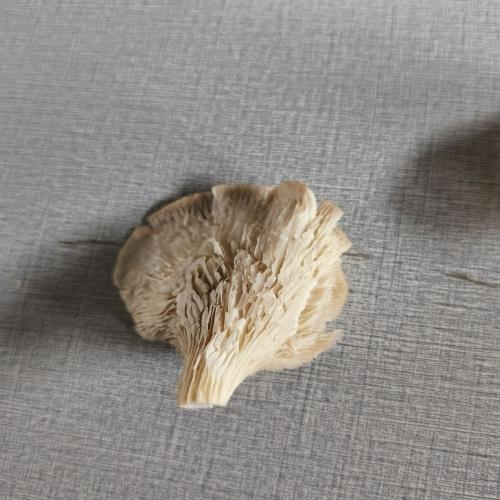Oyster Mushroom: (92, 135, 396, 425)
